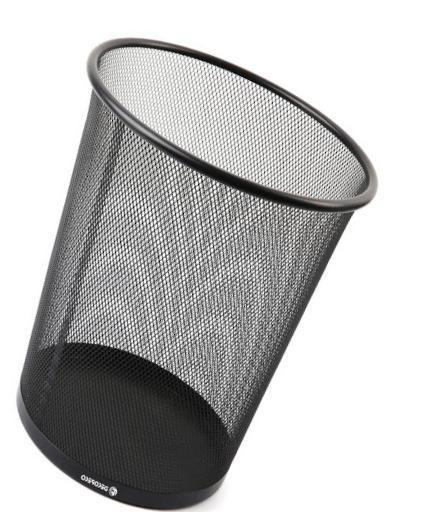Bote de Basura: (3, 40, 381, 511)
